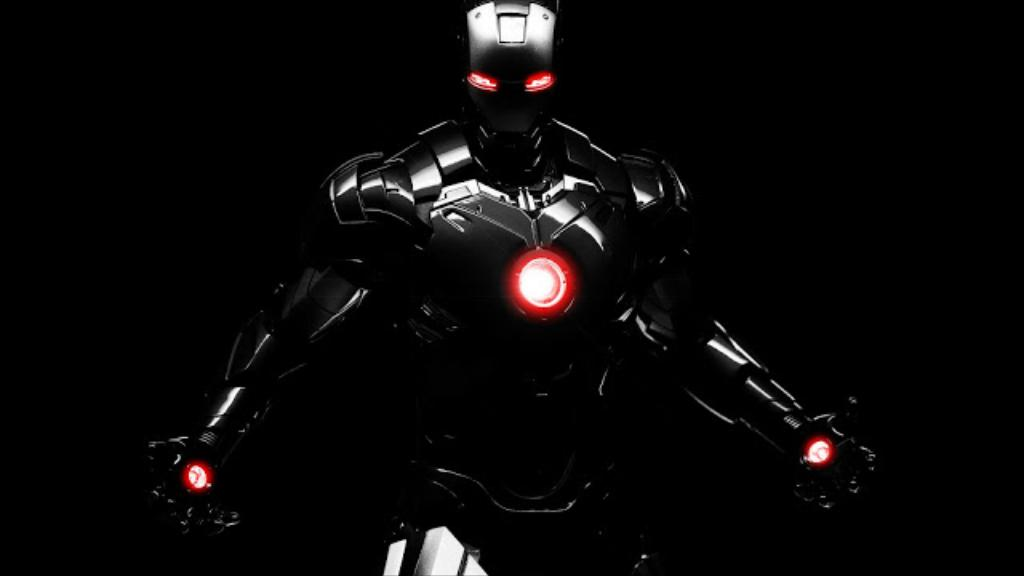Person: (137, 0, 878, 576)
